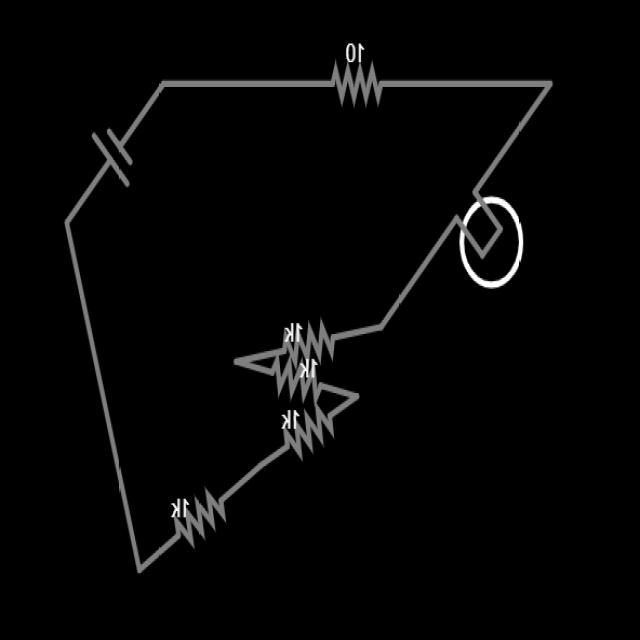Battery: (87, 126, 132, 191)
Light Bulb: (456, 196, 522, 289)
Resistor: (284, 401, 334, 466), (175, 489, 226, 547), (269, 353, 324, 405), (283, 318, 334, 371), (331, 61, 382, 108)
Wire: (64, 221, 142, 577), (471, 80, 554, 198), (377, 216, 460, 330), (219, 444, 290, 504), (119, 79, 166, 147), (65, 159, 112, 225), (162, 79, 334, 90), (140, 530, 178, 573), (381, 79, 555, 88), (325, 390, 361, 421), (232, 347, 283, 367), (333, 323, 383, 343), (237, 357, 271, 377), (323, 383, 352, 401)
